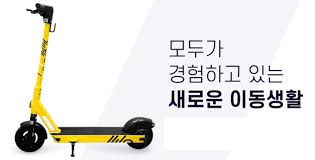kick_board: (15, 3, 155, 151)
kick_body: (60, 127, 124, 143)
kick_handler: (25, 3, 53, 23)
kick_neck: (32, 25, 50, 111)
kick_wheel: (125, 117, 153, 149), (16, 121, 45, 151)
